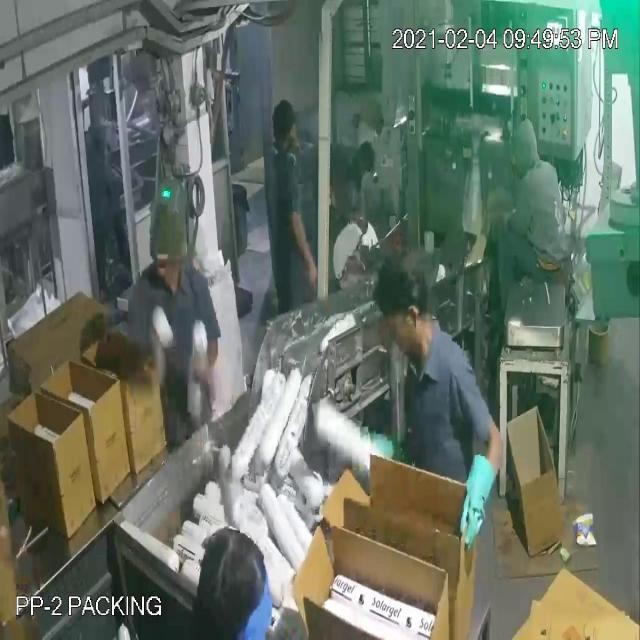No_Gloves: (34, 98, 478, 500)
